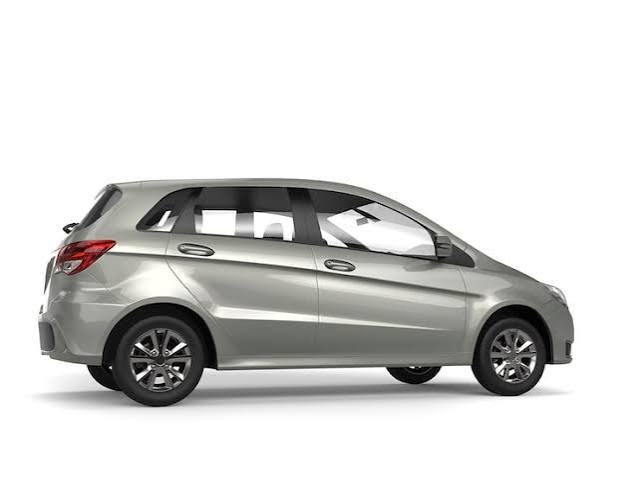car: (35, 172, 588, 404)
